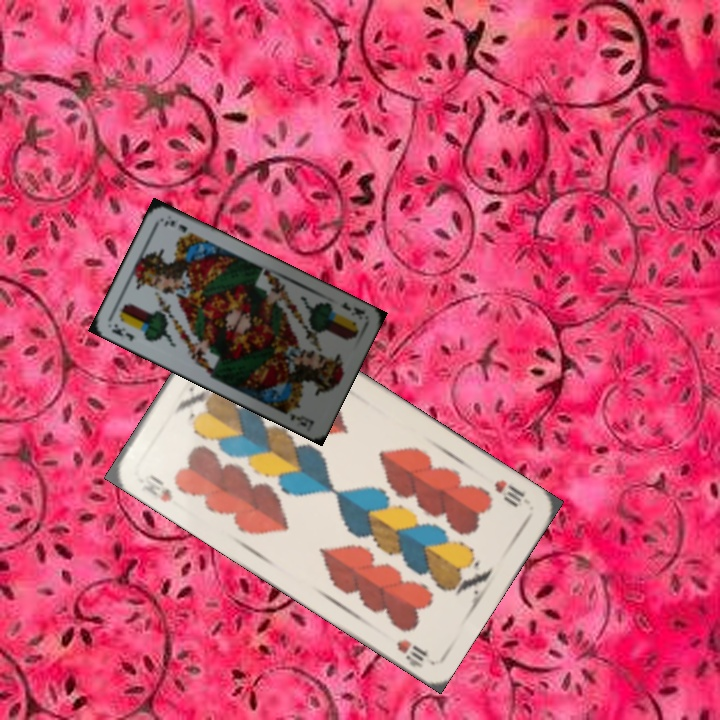EK: (107, 319, 137, 344), (335, 297, 367, 318)
H10: (490, 475, 527, 510), (140, 470, 175, 505)
